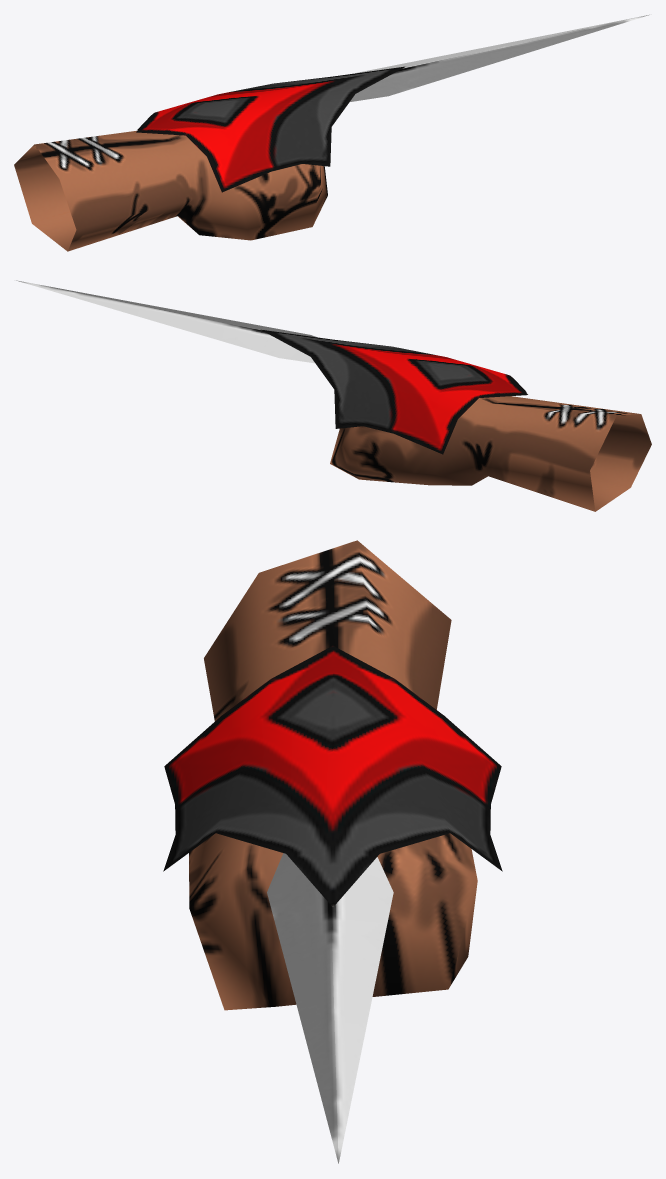
The model's file is WP_0H_Claw04.FBX.
3 views of the same model, one above another, from view 1: azimuth 30°, elevation 25°; view 2: azimuth 150°, elevation 25°; view 3: azimuth 270°, elevation 25° (orthographic). The views are drawn at different scales.
Parts seen in each view (by area): view 1: WP_0H_Claw04; view 2: WP_0H_Claw04; view 3: WP_0H_Claw04.
Boxes of the visible parts, x1=… form: WP_0H_Claw04: x1=14, y1=14, x2=649, y2=251; WP_0H_Claw04: x1=16, y1=280, x2=651, y2=511; WP_0H_Claw04: x1=163, y1=540, x2=502, y2=1163.
Bounding box in the file's own units: 103 × 19.09 × 24.97.
